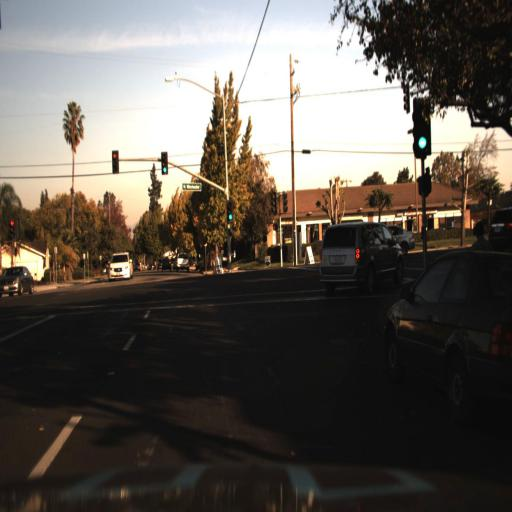car: (318, 219, 404, 296), (1, 262, 36, 299), (384, 225, 415, 259), (108, 252, 133, 283), (173, 248, 190, 276), (158, 251, 174, 276)
trafficLight: (414, 99, 430, 155)
trafficLight-Green: (158, 148, 168, 178), (228, 199, 236, 224)
trafficLight-RedLeft: (112, 146, 122, 175), (7, 216, 16, 244), (8, 219, 15, 243)
